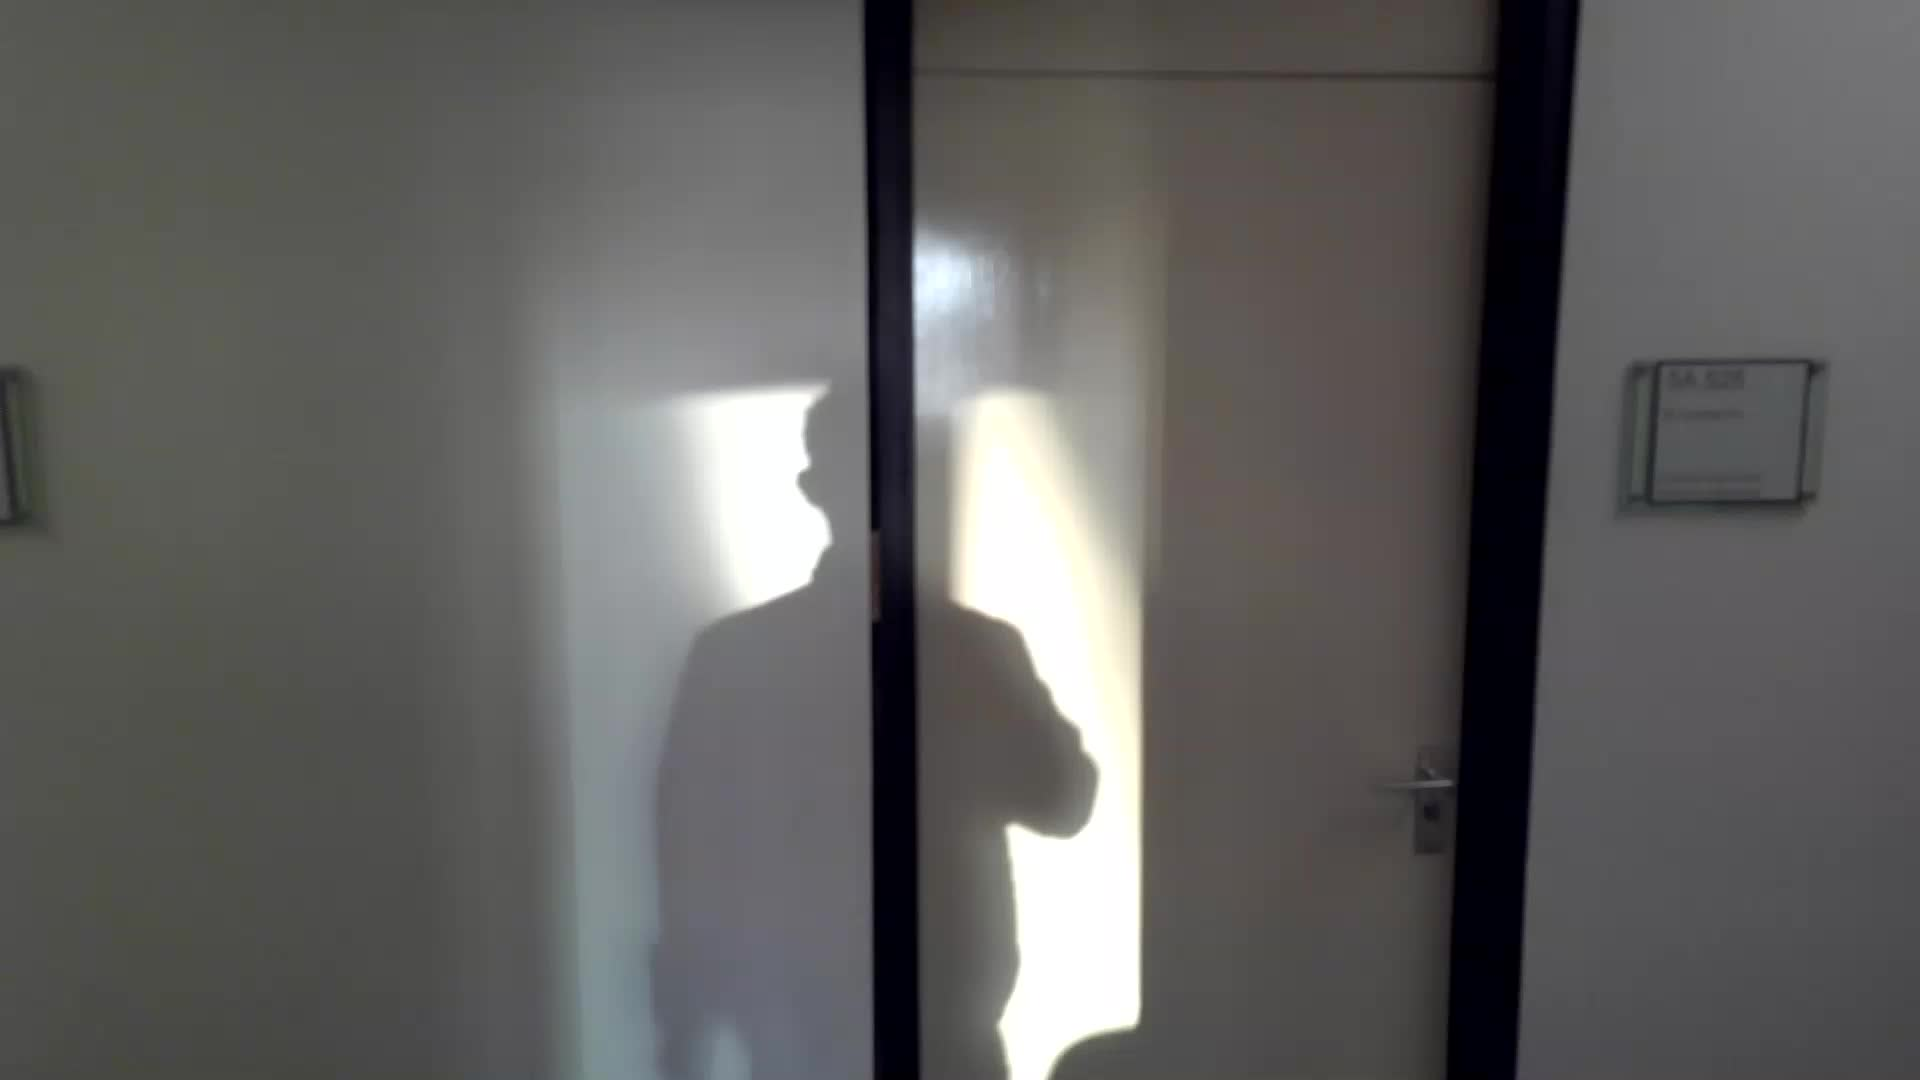Person: (652, 383, 1097, 1080)
